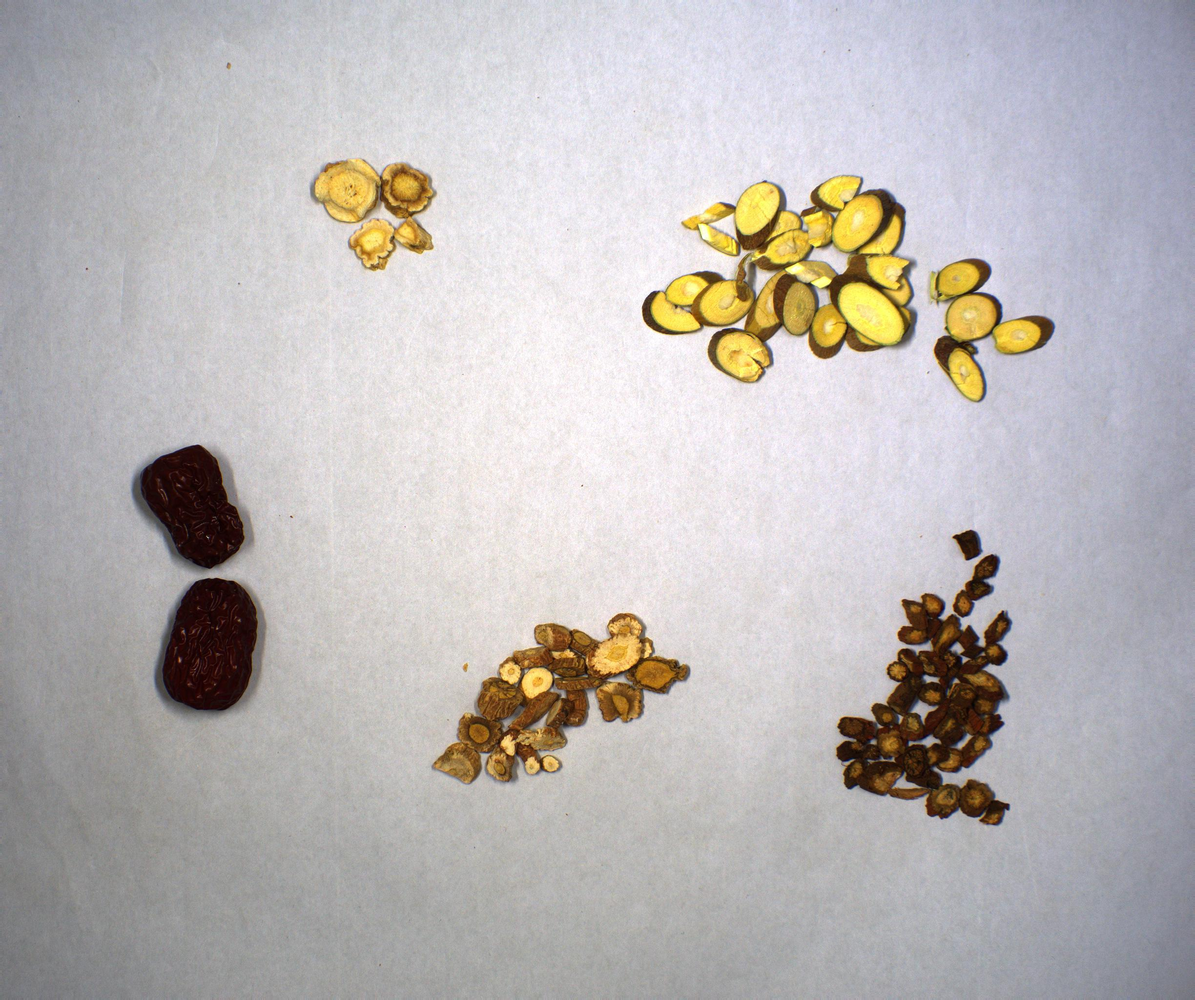banlangen: (414, 607, 701, 786)
danshen: (831, 526, 1019, 829)
dazao: (129, 442, 263, 719)
jiegeng: (310, 140, 443, 279)
sangzhi: (645, 171, 1062, 402)
